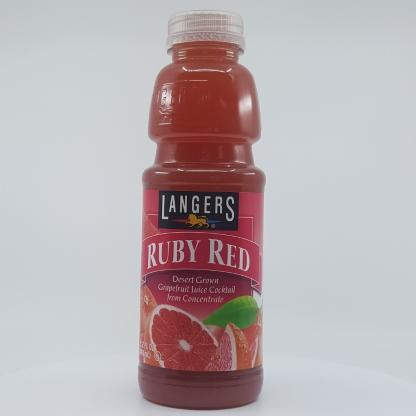-----449ML: (138, 10, 265, 408)
